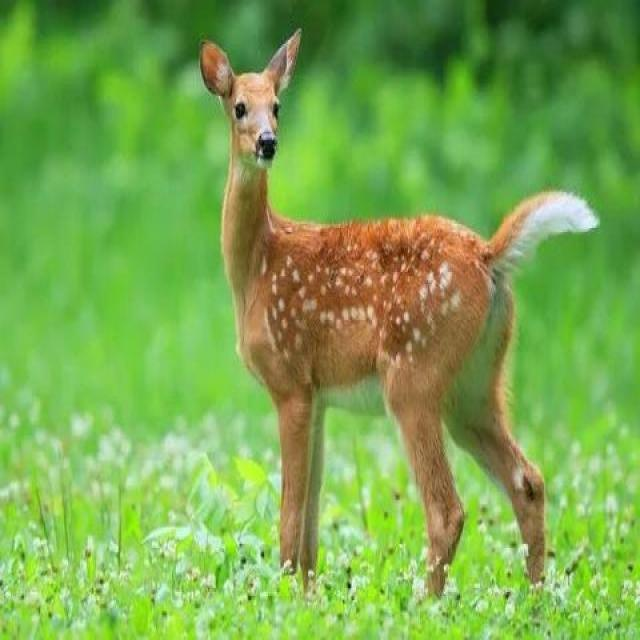deer: (216, 46, 541, 505)
